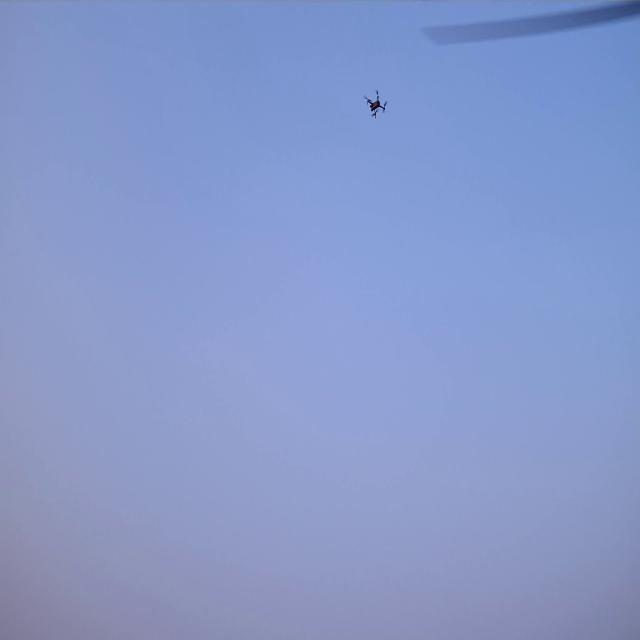UAV: (367, 92, 385, 118)
